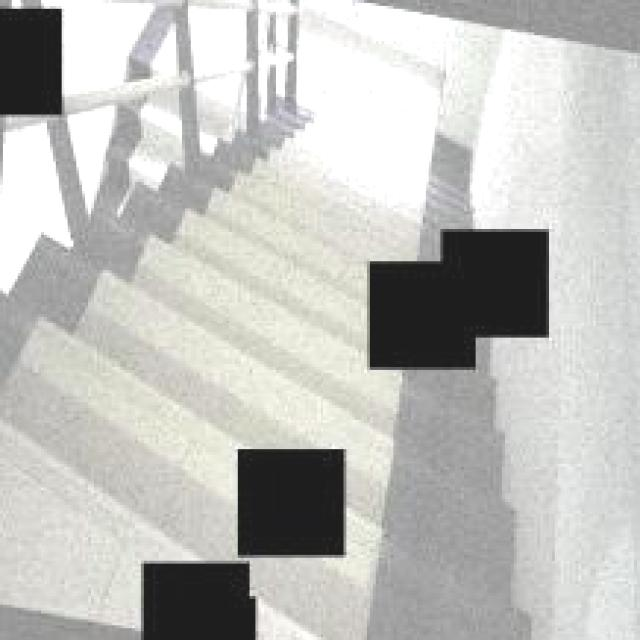downstair: (119, 218, 345, 415)
